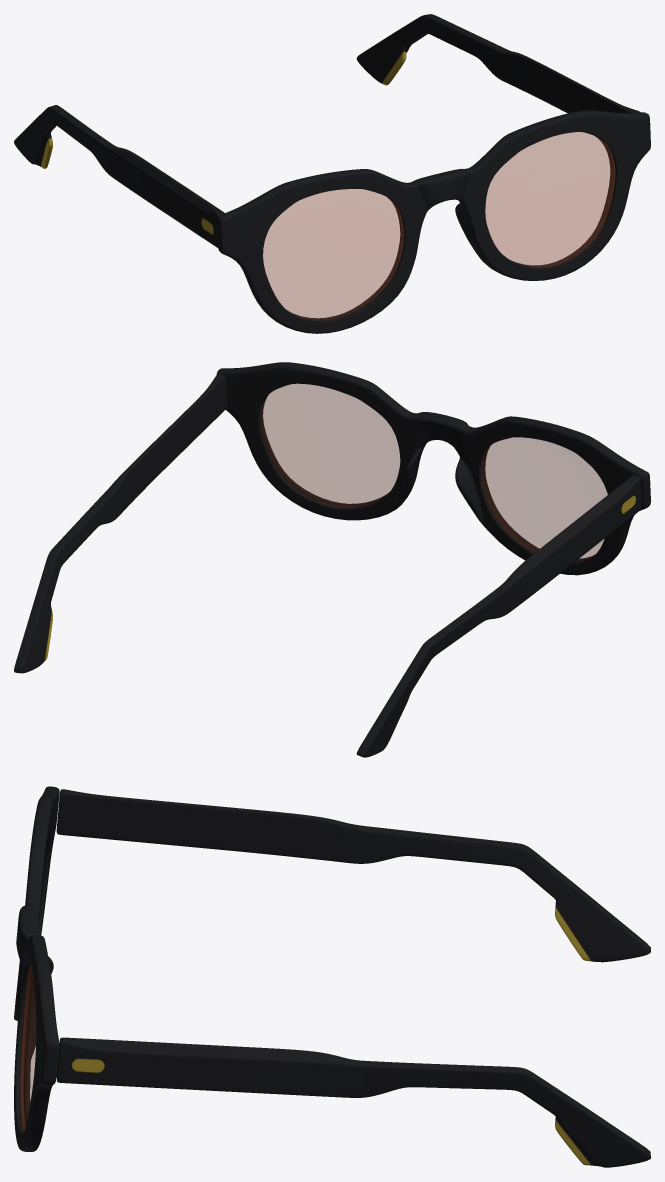
Rendered from sunglass.glb.
3 renders of one model, top to bottom at view 1: azimuth 30°, elevation 25°; view 2: azimuth 150°, elevation 25°; view 3: azimuth 270°, elevation 25°, orthographic. The views are drawn at different scales.
Parts seen in each view (by area): view 1: 2x subdivision_0; view 2: 2x subdivision_0; view 3: 2x subdivision_0.
Boxes of the visible parts, box(x1,y1,x2,y2) form: 2x subdivision_0: box(14, 14, 650, 333); 2x subdivision_0: box(14, 362, 650, 757); 2x subdivision_0: box(14, 786, 650, 1167).
Size of the model in its own units: 0.1521 by 0.0512 by 0.159.
2 materials, 1 textured.
